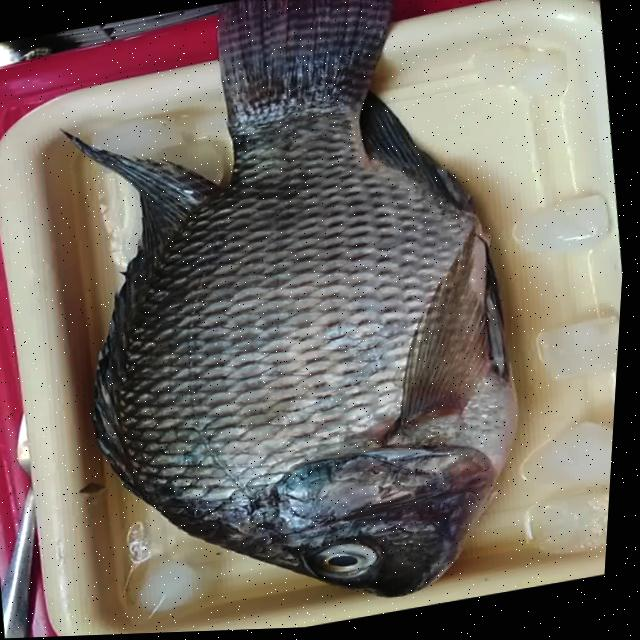Fresh: (13, 0, 557, 568), (300, 530, 409, 598)
